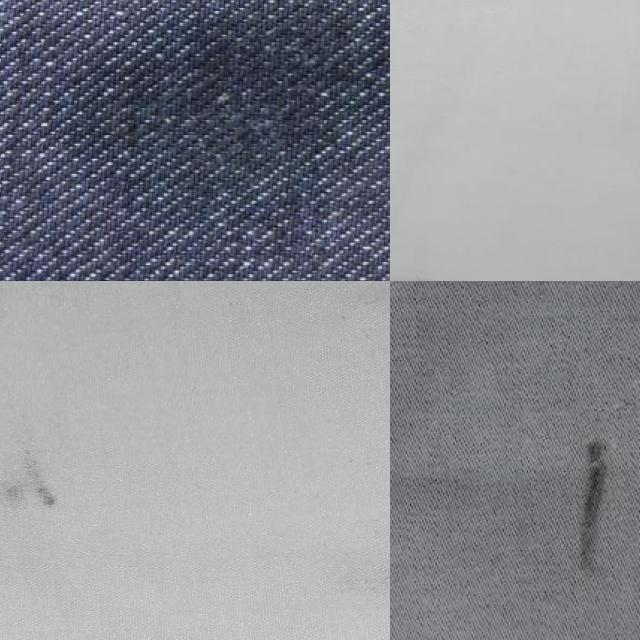Thread_other: (522, 395, 640, 631), (0, 378, 124, 583)
